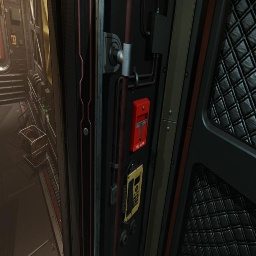0: (44, 105, 50, 130), (41, 101, 45, 124)
EmergencyPhone ,: (121, 158, 143, 224), (10, 33, 16, 44), (134, 175, 140, 186), (13, 37, 15, 39)
FireAlarm ,: (130, 98, 150, 152)
